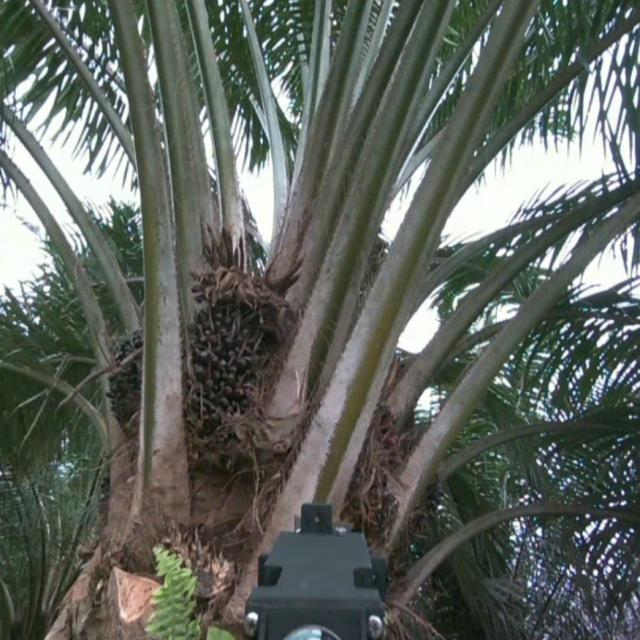palm-oil: (186, 282, 288, 484), (342, 395, 412, 552), (106, 327, 152, 459)
